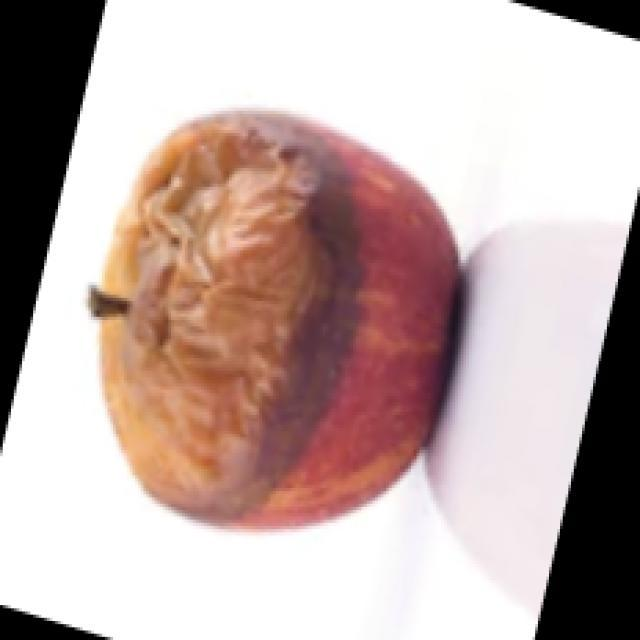Rotten: (125, 106, 453, 526)
